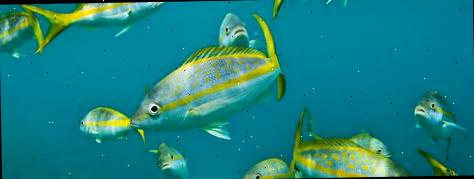fish: (128, 11, 287, 142), (292, 104, 410, 178), (20, 1, 169, 55), (413, 87, 469, 160), (79, 104, 146, 146), (0, 8, 44, 58), (147, 140, 188, 179), (416, 148, 458, 176), (239, 158, 295, 178), (348, 133, 391, 158), (218, 12, 248, 46)
